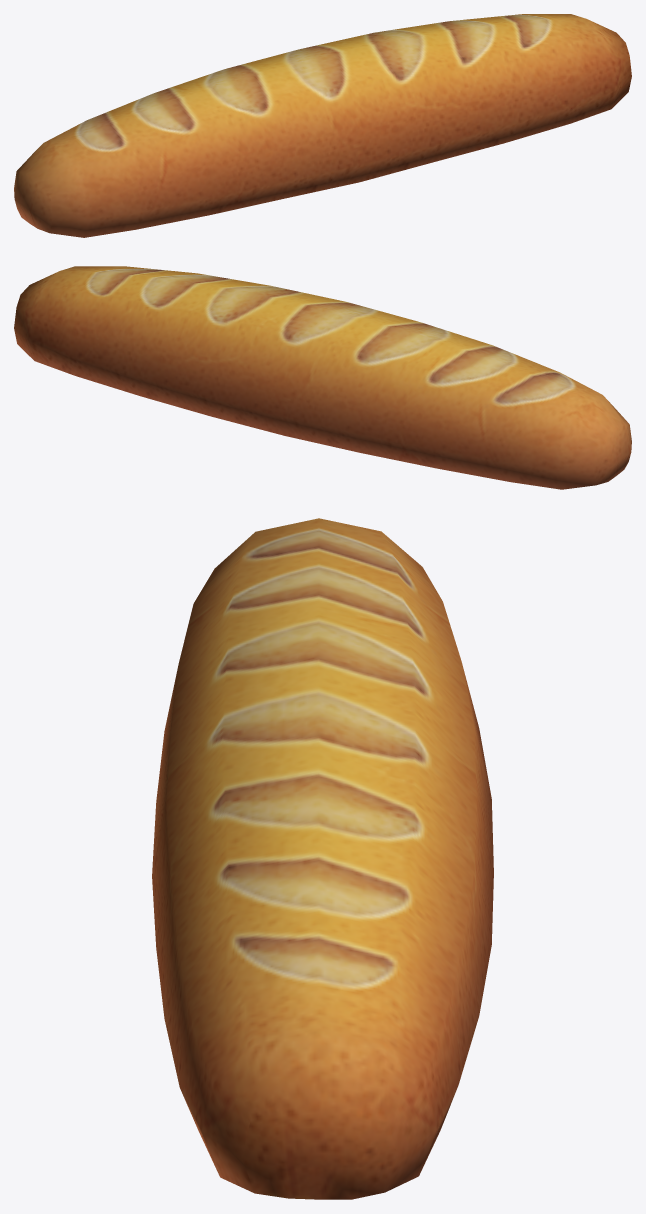
The model's file is SE_Baguette_01.fbx.
3 renders of one model, top to bottom at view 1: azimuth 30°, elevation 25°; view 2: azimuth 150°, elevation 25°; view 3: azimuth 270°, elevation 25°, orthographic. The views are drawn at different scales.
Visible parts, largest first — view 1: SE_Baguette_01; view 2: SE_Baguette_01; view 3: SE_Baguette_01.
Boxes of the visible parts, left/top/right/bottom form: SE_Baguette_01: left=14, top=14, right=631, bottom=237; SE_Baguette_01: left=14, top=266, right=631, bottom=489; SE_Baguette_01: left=152, top=518, right=493, bottom=1199.
Bounding box in the file's own units: 3.98 × 0.66 × 0.9853.
